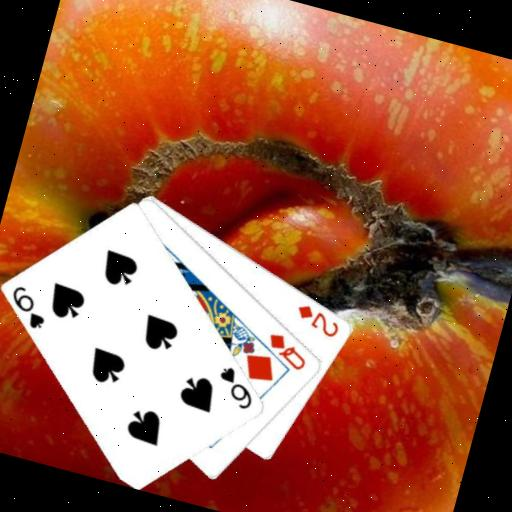2D: (289, 299, 345, 341)
6S: (2, 280, 54, 333), (209, 361, 261, 413)
QD: (260, 328, 313, 374)
